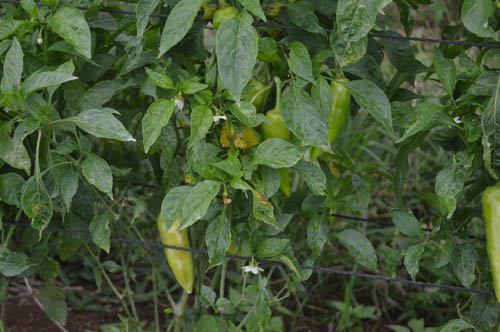ChiliPepper: (308, 76, 352, 160), (260, 106, 299, 197), (156, 209, 197, 295), (477, 181, 500, 302), (207, 4, 238, 29)
